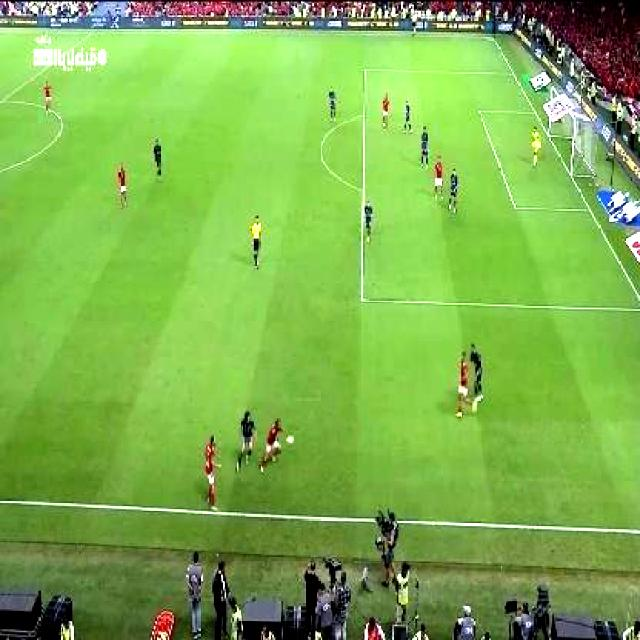bigarea_bottom_inner: (358, 289, 369, 306)
bigarea_top_inner: (363, 63, 369, 74)
bigarea_top_outter: (505, 66, 520, 80)
bottom_arc_area_intersection: (360, 185, 366, 197)
corner: (484, 35, 498, 43)
halfcircle_top: (2, 94, 9, 105)
midline_top_intersection: (82, 28, 102, 40)
smallarea_bottom_inner: (512, 198, 522, 212)
smallarea_bottom_outter: (586, 202, 594, 212)
smallarea_top_inner: (477, 106, 485, 117)
smallarea_top_outter: (528, 106, 543, 122)
top_arc_area_intersection: (360, 108, 368, 119)
